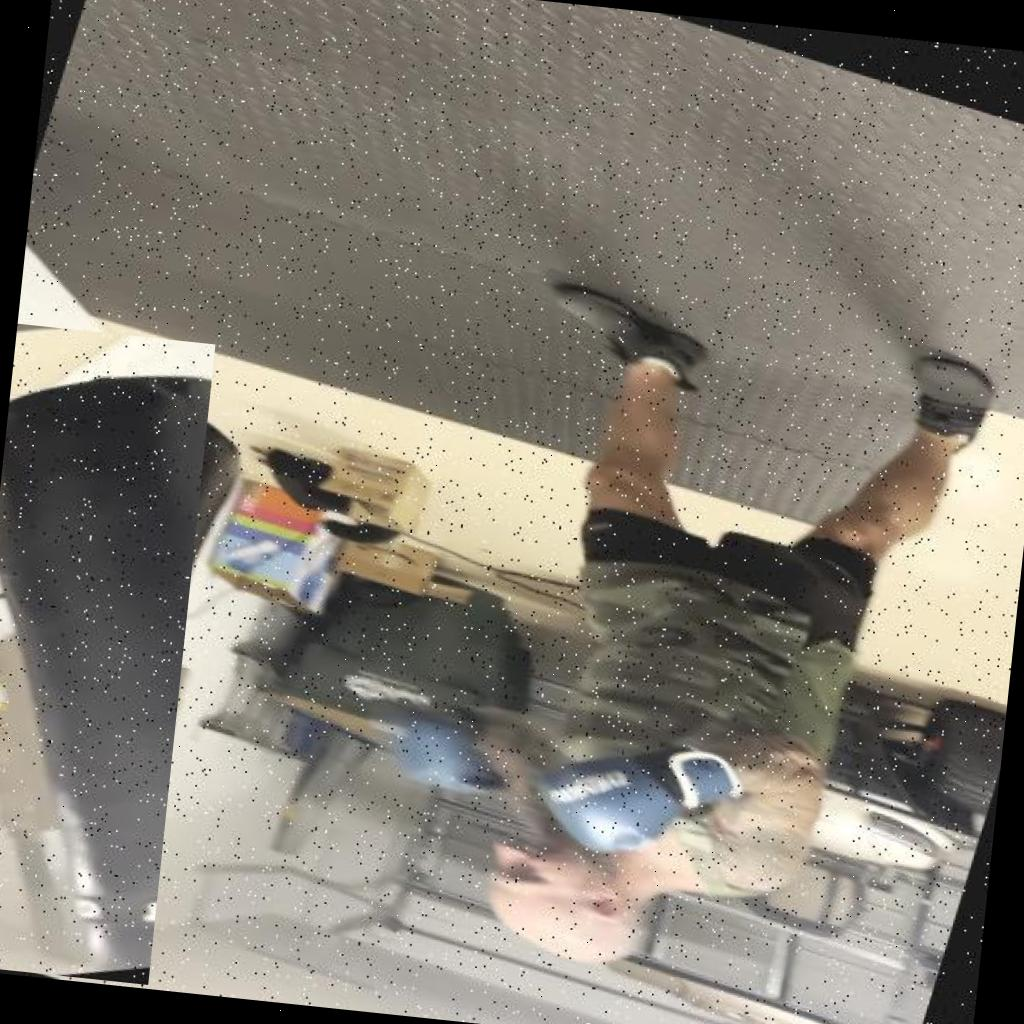bag: (0, 323, 215, 984)
no punch: (318, 589, 853, 1024)
